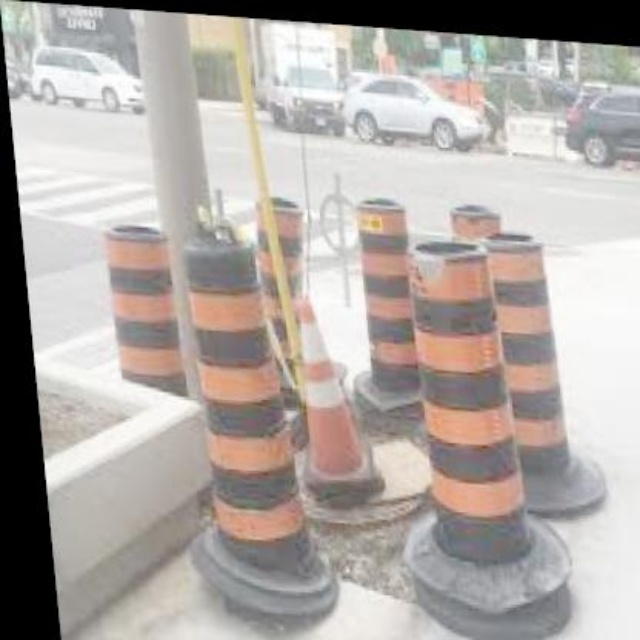obstacle: (398, 230, 515, 572), (175, 233, 286, 565)
